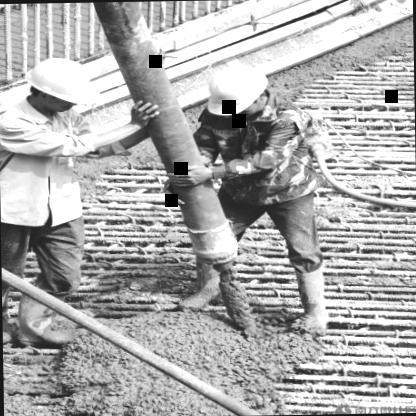helmet: (18, 52, 102, 119), (200, 63, 275, 125)
